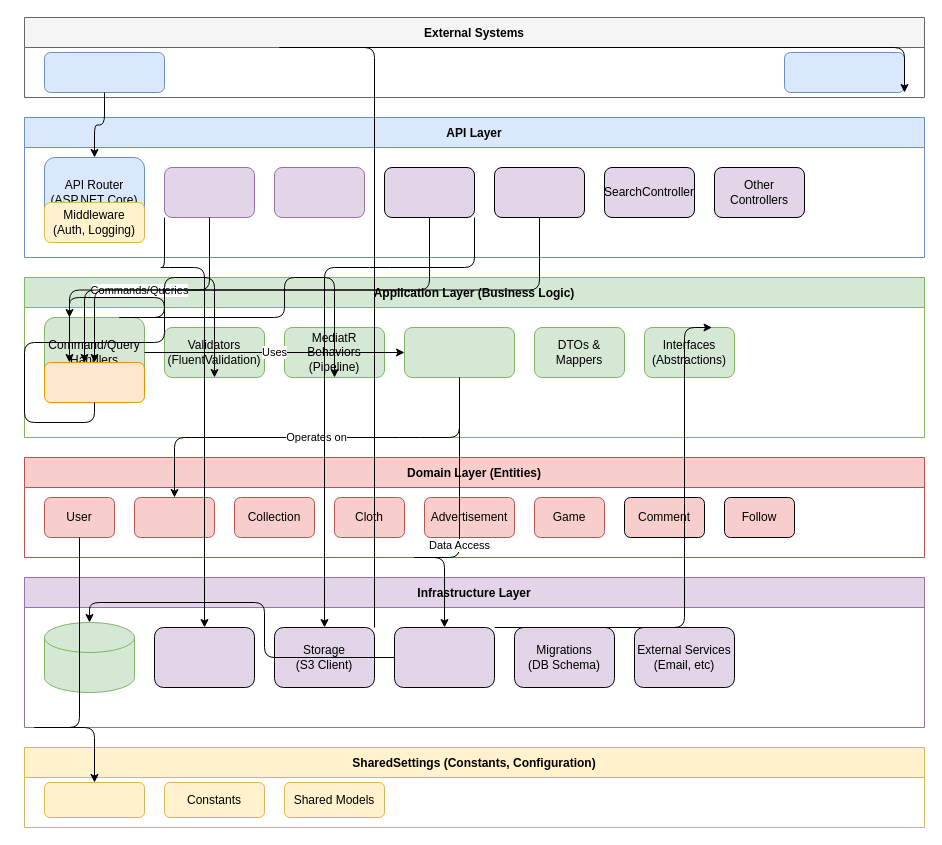
Image size: 942x845. Some labels were removed from this diagram. Each missing label, with the centre of its shape:
"AuthController" belongs at pixel 209 192.
"Authentication (JWT/Identity)" belongs at pixel 204 657.
"Business Services (Users, Feed, etc)" belongs at pixel 459 352.
"Clients (Web/Mobile)" belongs at pixel 104 72.
"Configuration" belongs at pixel 94 800.
"Database (EF Core)" belongs at pixel 89 657.
"FeedController" belongs at pixel 539 192.
"File Storage (AWS S3)" belongs at pixel 844 72.
"MediatR Dispatcher" belongs at pixel 94 382.
"Publication" belongs at pixel 174 517.
"PublicationsController" belongs at pixel 429 192.
"Repositories (Data Access)" belongs at pixel 444 657.
"UsersController" belongs at pixel 319 192.
